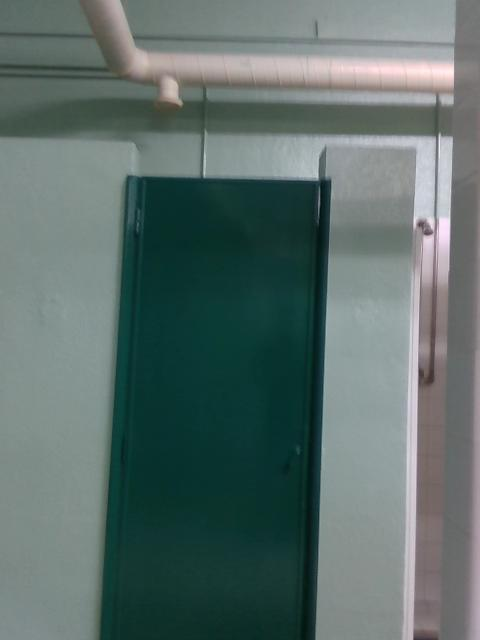closed_door: (96, 175, 330, 638)
